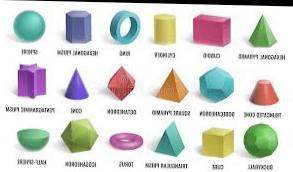cube: (199, 125, 234, 159)
